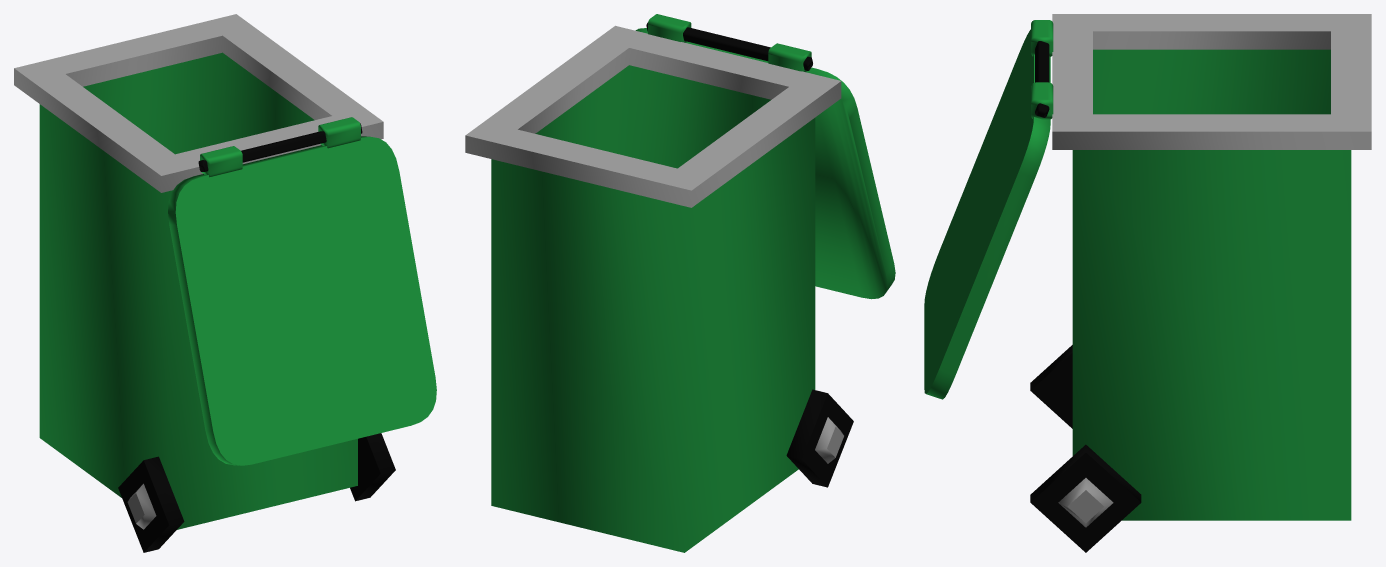
Rendered from Garbage Cans(1).glb.
3 renders of one model, left to right at view 1: azimuth 30°, elevation 25°; view 2: azimuth 150°, elevation 25°; view 3: azimuth 270°, elevation 25°, orthographic. The views are drawn at different scales.
Parts seen in each view (by area): view 1: Root; view 2: Root; view 3: Root.
Boxes of the visible parts, <box> form: Root: <box>14,14,436,552</box>; Root: <box>465,14,895,552</box>; Root: <box>924,14,1371,552</box>.
Bounding box in the file's own units: 0.7435 × 1.18 × 1.1.
